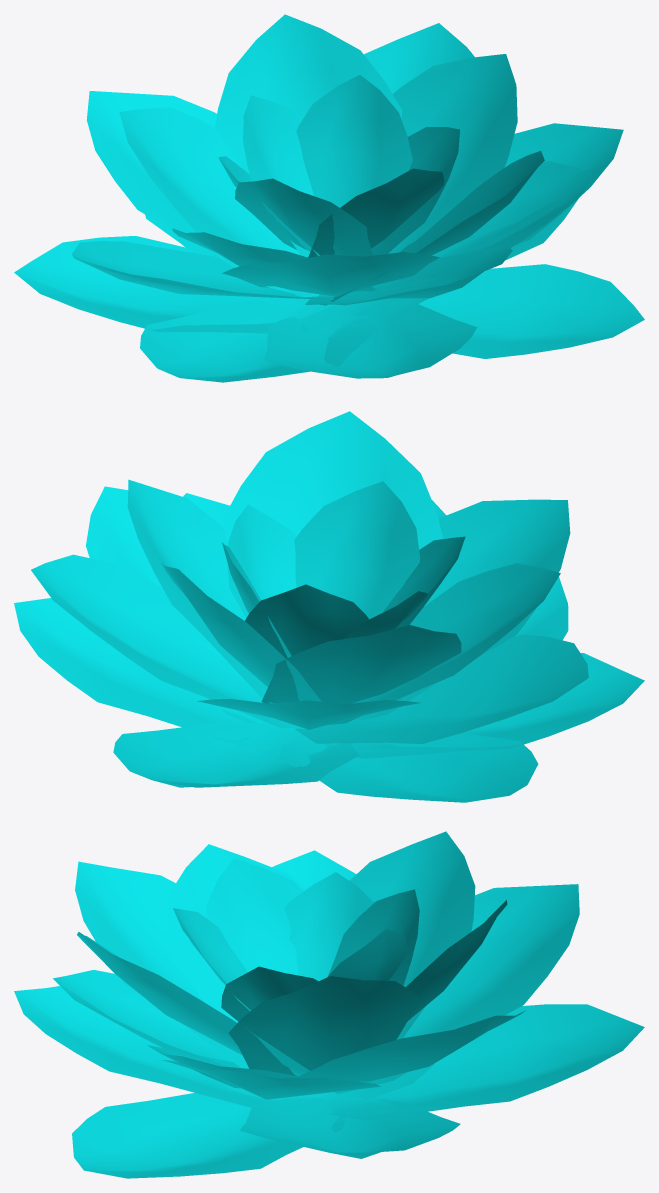
File: SM_WaterFlower.fbx
The picture shows the model from 3 angles, top to bottom: view 1: azimuth 30°, elevation 25°; view 2: azimuth 150°, elevation 25°; view 3: azimuth 270°, elevation 25°; orthographic projection. The views are drawn at different scales.
Parts seen in each view (by area): view 1: pPlane10; view 2: pPlane10; view 3: pPlane10.
Part boxes in pixels (x1,y1,x2,y2): pPlane10: [14, 14, 644, 382]; pPlane10: [14, 411, 644, 802]; pPlane10: [14, 831, 644, 1178].
Size of the model in its own units: 47.48 by 19.22 by 47.82.
